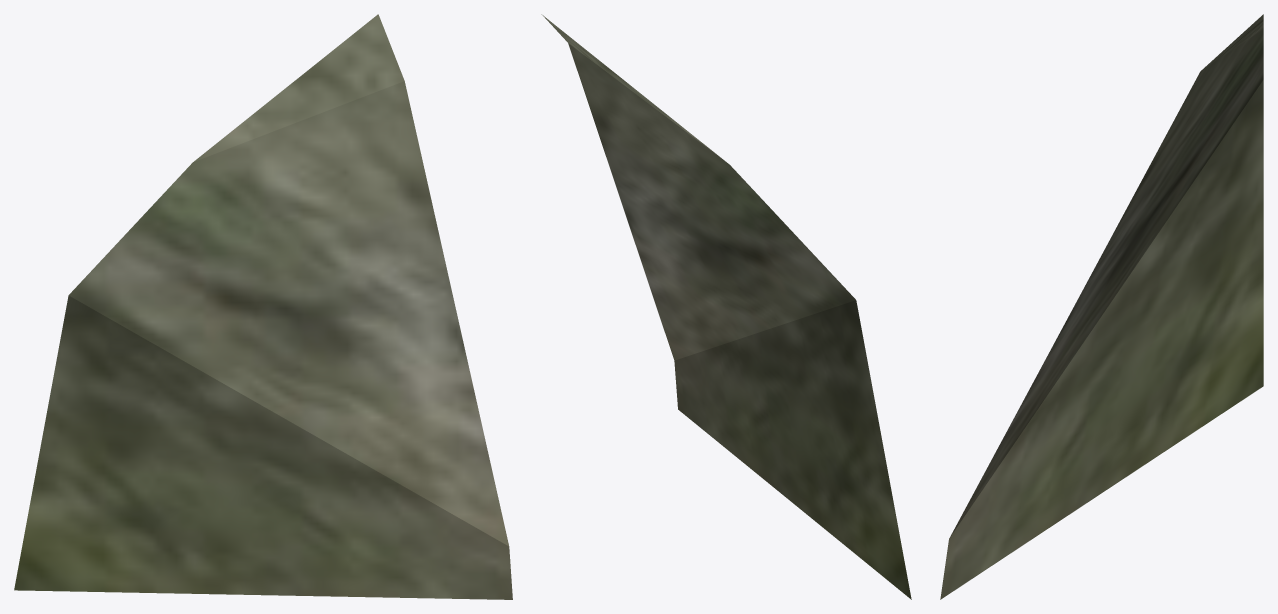
The picture shows the model from 3 angles, left to right: view 1: azimuth 30°, elevation 25°; view 2: azimuth 150°, elevation 25°; view 3: azimuth 270°, elevation 25°; orthographic projection. The views are drawn at different scales.
Bounding box in the file's own units: 1.55 × 1.98 × 0.9917.
Materials: 1 (1 with a texture image).
